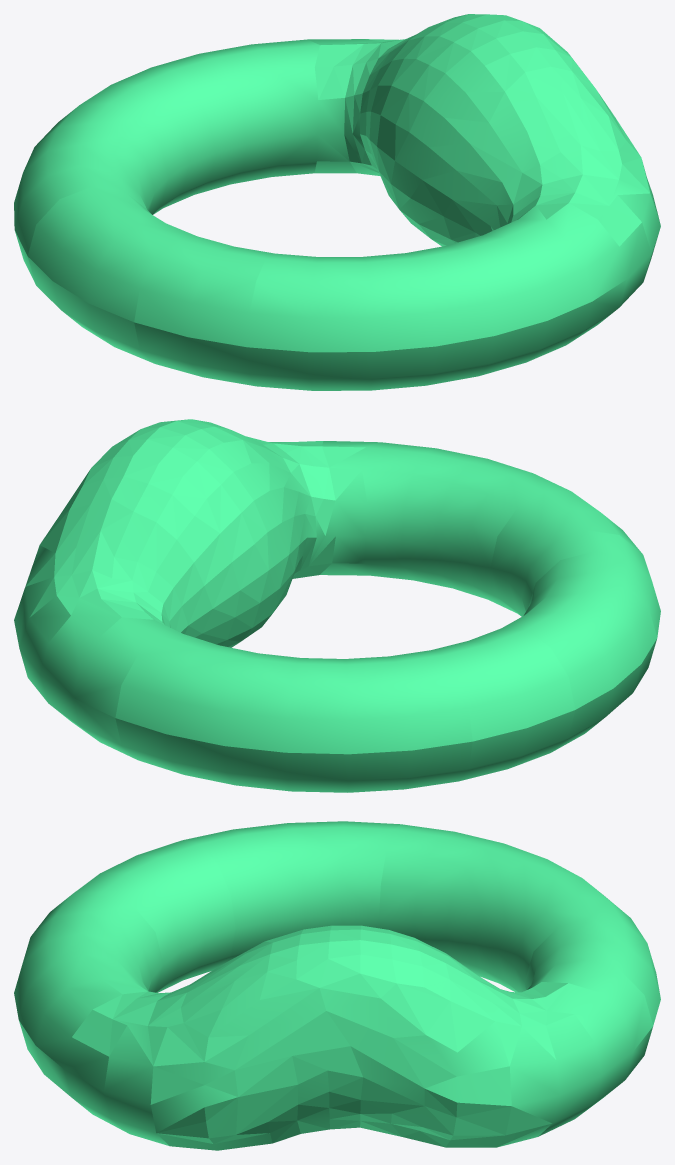
The model's file is ring2.fbx.
3 views of the same model, one above another, from view 1: azimuth 30°, elevation 25°; view 2: azimuth 150°, elevation 25°; view 3: azimuth 270°, elevation 25° (orthographic).
Parts seen in each view (by area): view 1: 0ring2; view 2: 0ring2; view 3: 0ring2.
Boxes of the visible parts, bbox=[...] form: 0ring2: bbox=[14, 14, 660, 390]; 0ring2: bbox=[14, 419, 660, 792]; 0ring2: bbox=[14, 821, 660, 1150].
Bounding box in the file's own units: 188 × 69.31 × 200.
